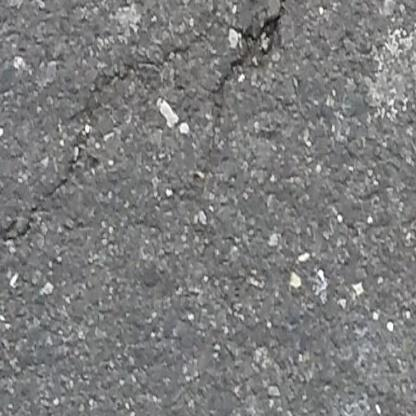Cracks: (0, 119, 94, 256), (69, 33, 205, 119), (212, 0, 309, 97)
